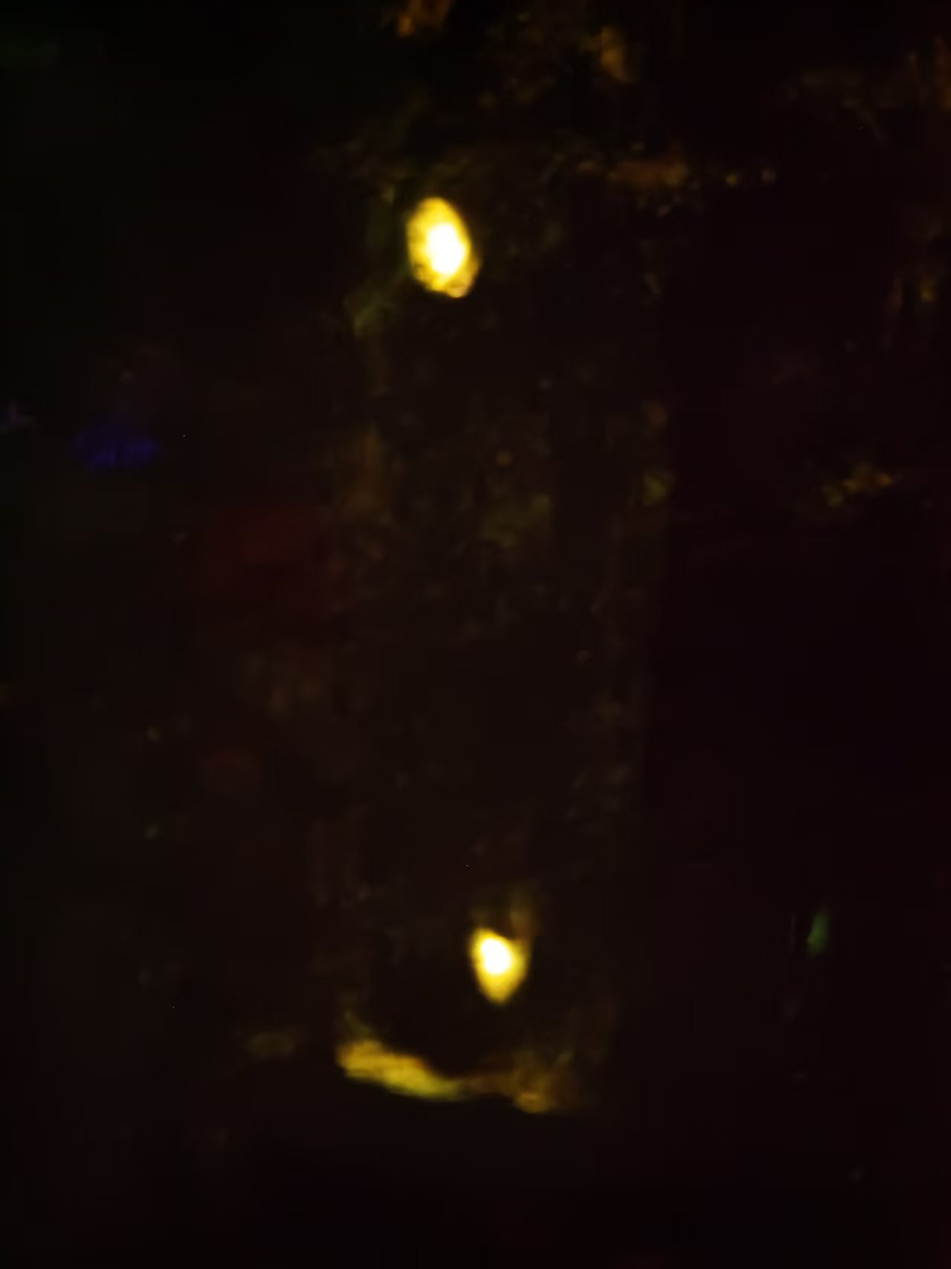Crater: (413, 903, 582, 1017), (380, 173, 509, 318)
